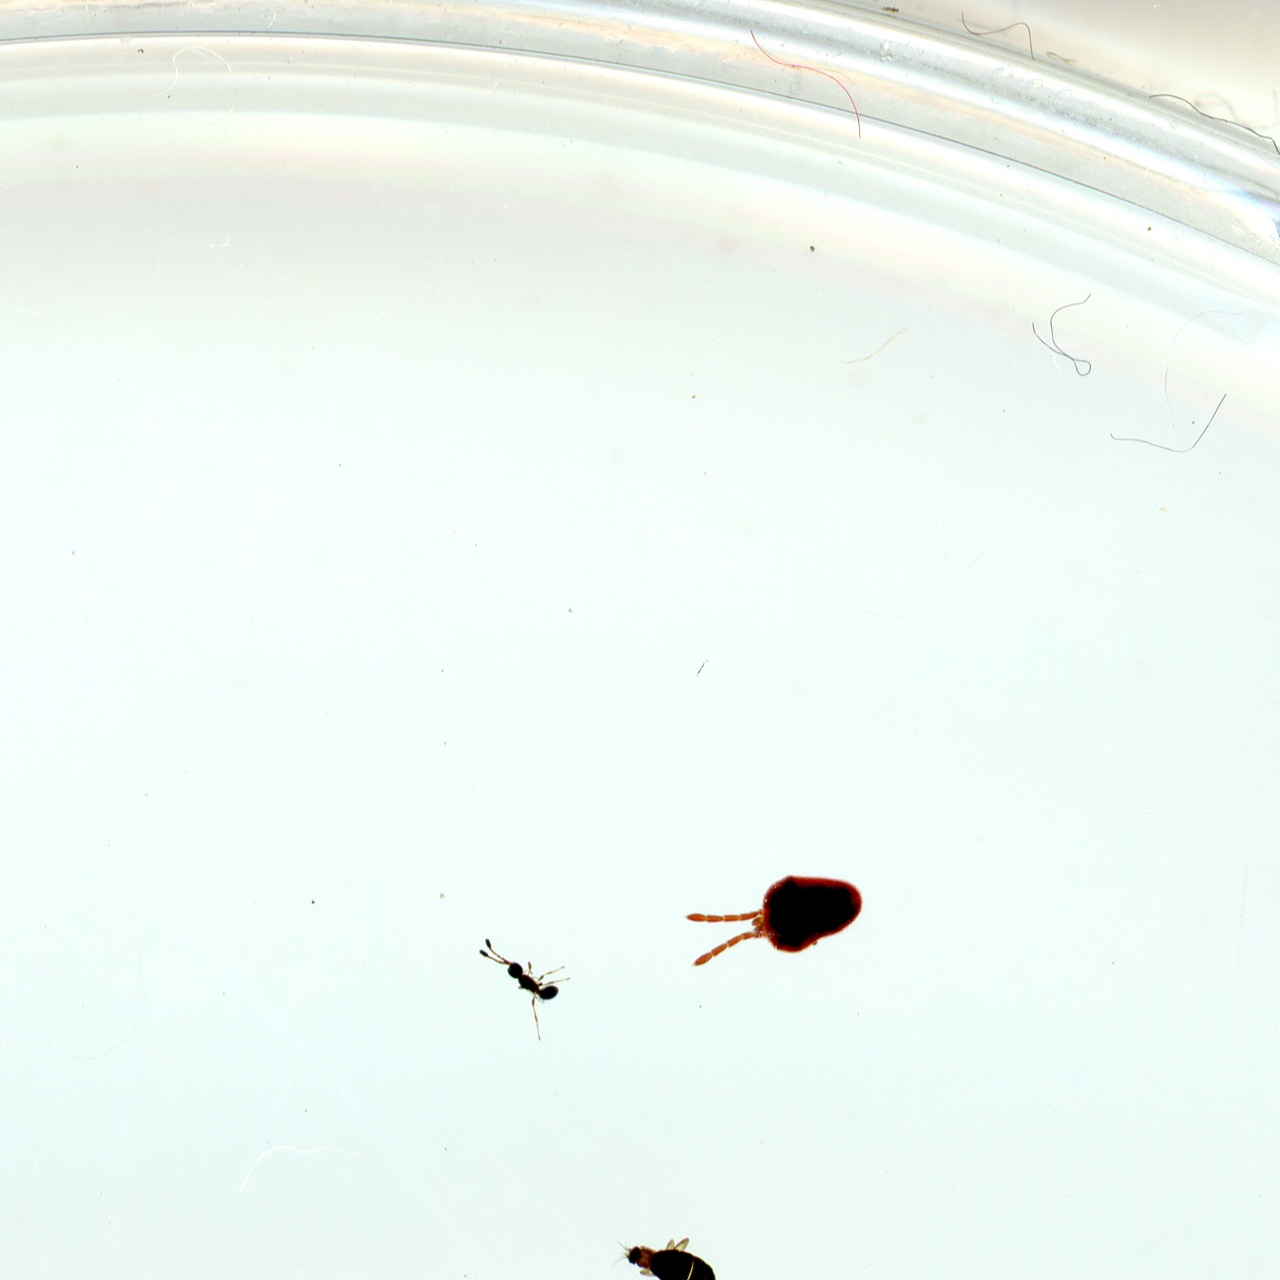arthropod: (668, 850, 883, 989), (475, 933, 574, 1044), (605, 1230, 727, 1280)
